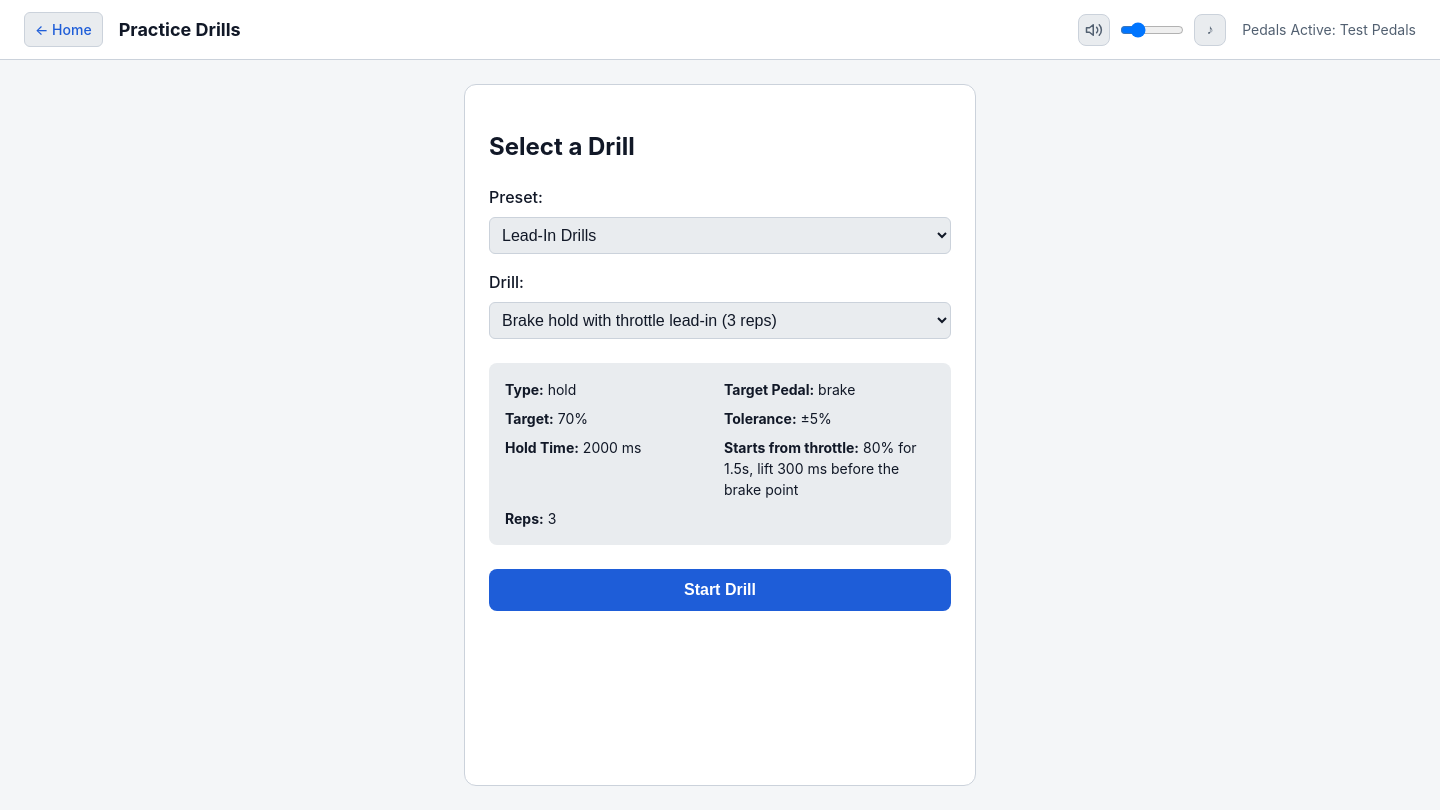
Scenario: Drill page › renders coast line when coastMs > 0
Click the button "Start Drill" at (720, 590), box [489,569,951,611]
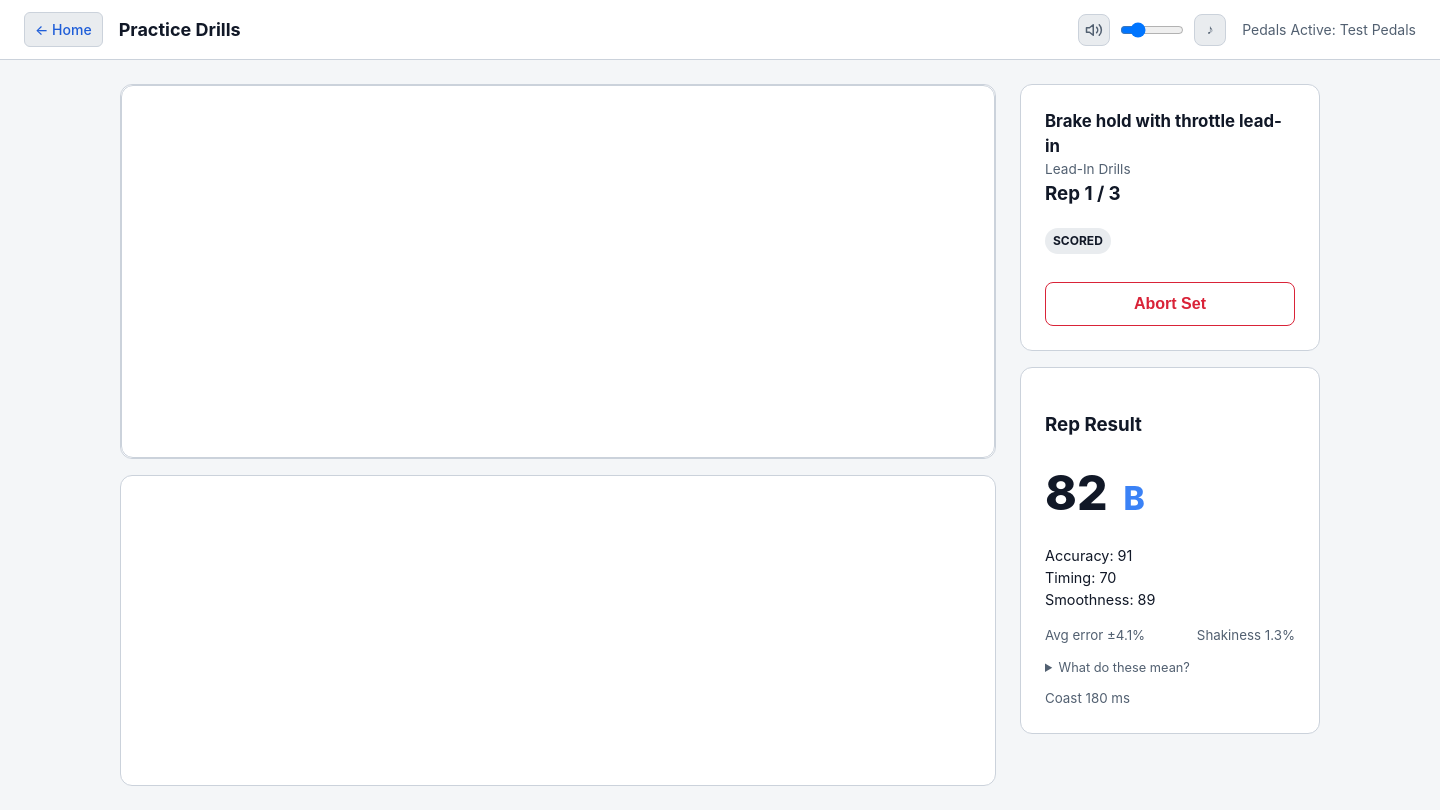
Check: the text with test id "coast" reads "Coast 180 ms", box [1045,690,1130,706]
